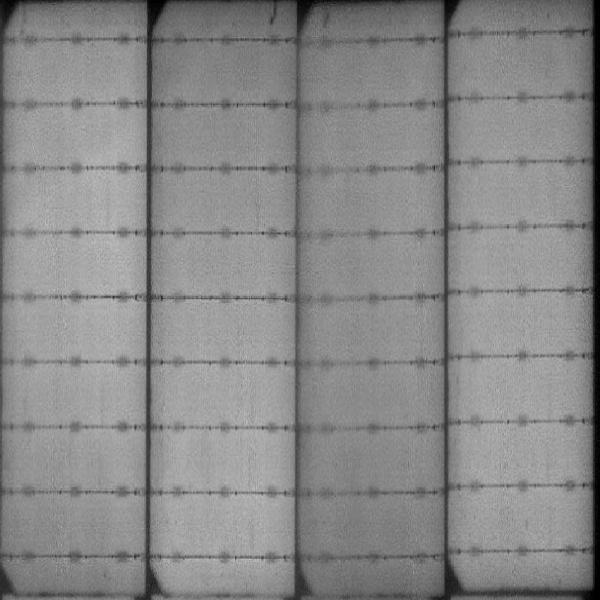scratch: (266, 1, 282, 24)
